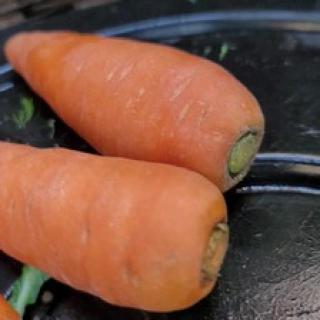carrot: (0, 26, 273, 186), (0, 148, 232, 311)
